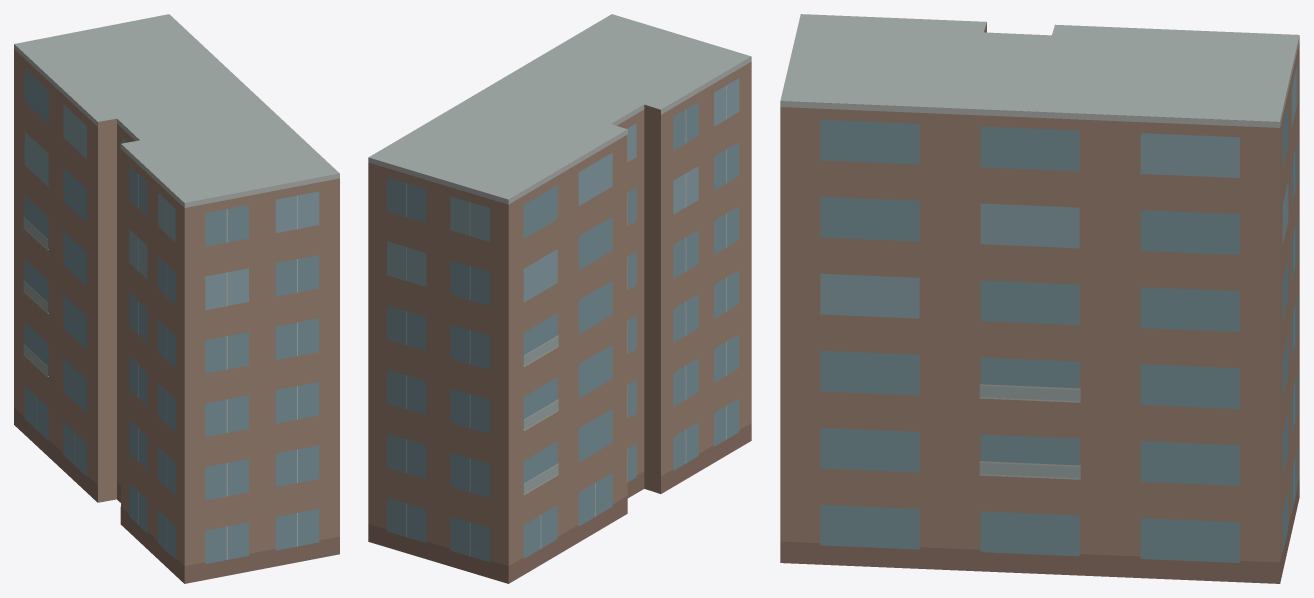
File: survey-upis-32974201.glb
The picture shows the model from 3 angles, left to right: view 1: azimuth 30°, elevation 25°; view 2: azimuth 150°, elevation 25°; view 3: azimuth 270°, elevation 25°; orthographic projection. The views are drawn at different scales.
Parts seen in each view (by area): view 1: survey-upis-32974201.tmp; view 2: survey-upis-32974201.tmp; view 3: survey-upis-32974201.tmp.
Boxes of the visible parts, x1,y1,x2,y2 form: survey-upis-32974201.tmp: (14, 14, 339, 583); survey-upis-32974201.tmp: (368, 14, 751, 583); survey-upis-32974201.tmp: (780, 14, 1299, 583).
Bounding box in the file's own units: 9.33 × 18.6 × 18.96.
